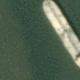ship: (36, 0, 76, 41)
